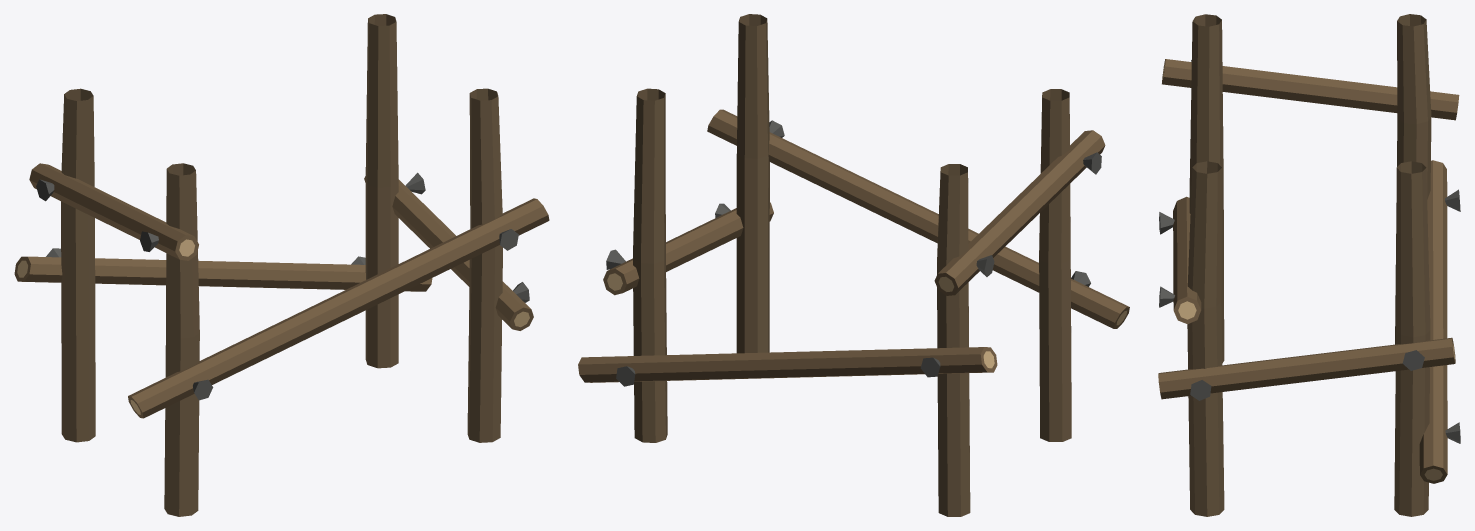
Rendered from rpgpp_ag_wall_platform_02_4x4_support_01a.fbx.
3 views of the same model, side by side, from view 1: azimuth 30°, elevation 25°; view 2: azimuth 150°, elevation 25°; view 3: azimuth 270°, elevation 25° (orthographic).
Visible parts, largest first — view 1: rpgpp_ag_wall_platform_02_4x4_support_01a; view 2: rpgpp_ag_wall_platform_02_4x4_support_01a; view 3: rpgpp_ag_wall_platform_02_4x4_support_01a.
Part boxes in pixels (box(x1,y1,x2,y2)): rpgpp_ag_wall_platform_02_4x4_support_01a: box(14, 14, 549, 516); rpgpp_ag_wall_platform_02_4x4_support_01a: box(578, 14, 1129, 516); rpgpp_ag_wall_platform_02_4x4_support_01a: box(1158, 14, 1460, 516).
Bounding box in the file's own units: 5 × 3.87 × 3.1.
